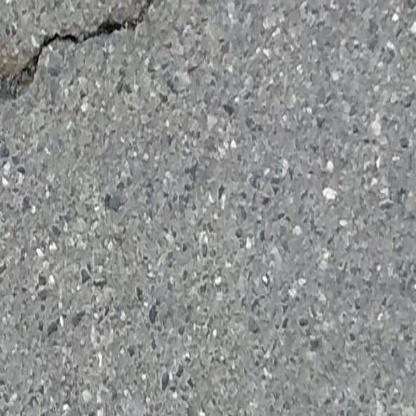Cracks: (0, 0, 164, 103)
